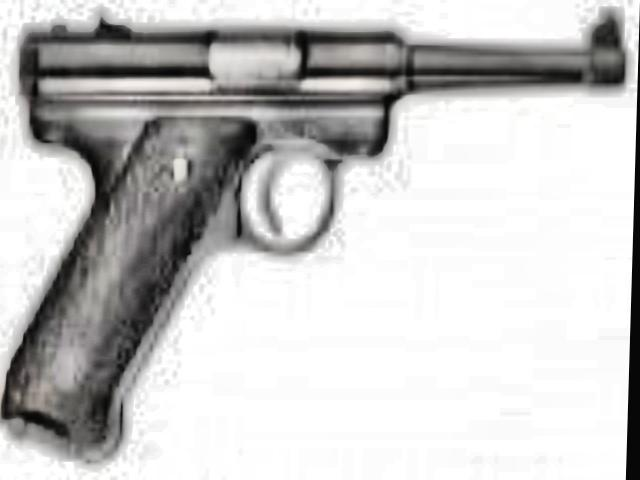pistol: (0, 4, 620, 456)
